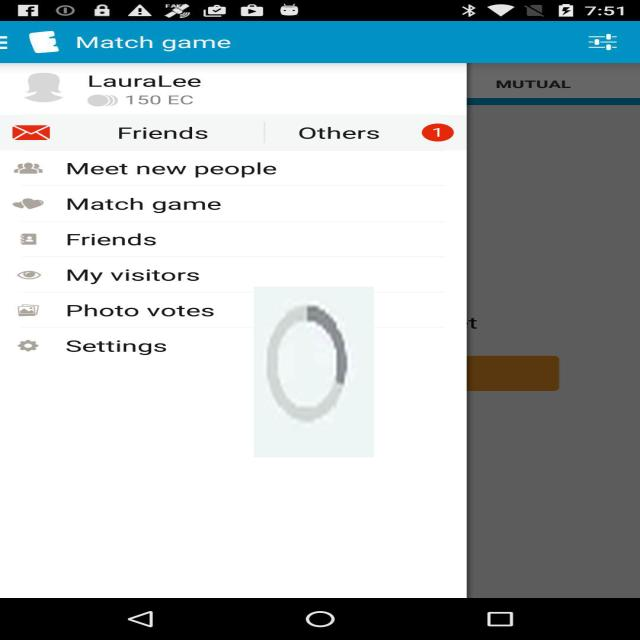misdirection: (254, 287, 374, 457)
